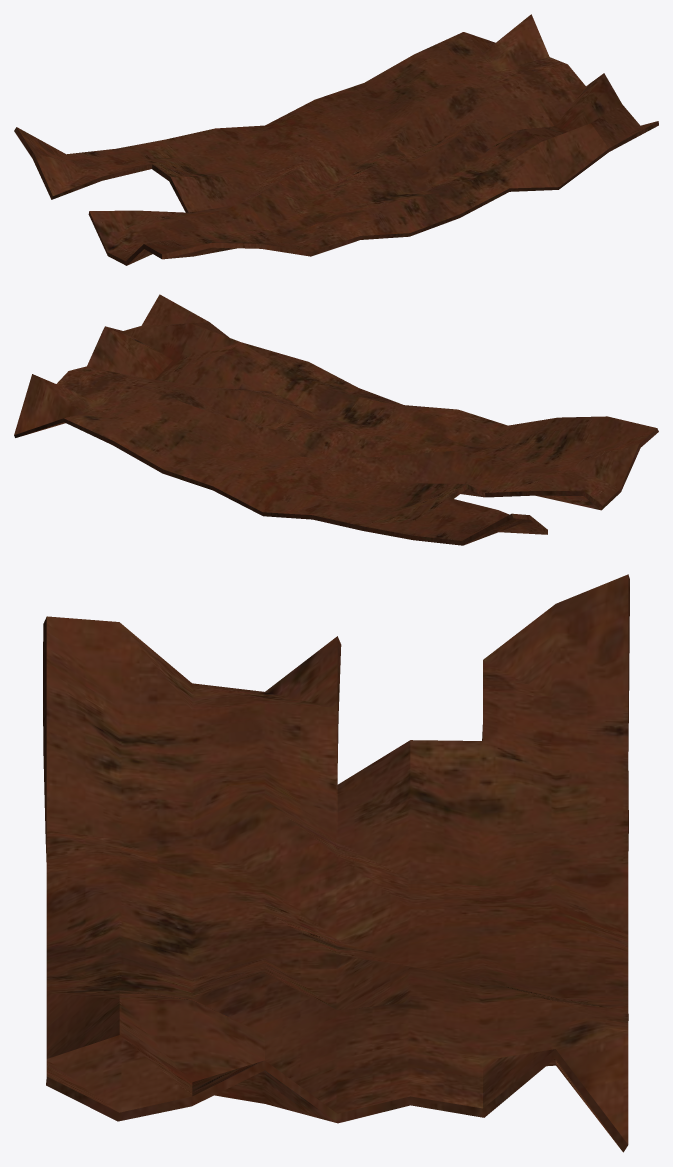
The model's file is sheet_6.glb.
3 views of the same model, one above another, from view 1: azimuth 30°, elevation 25°; view 2: azimuth 150°, elevation 25°; view 3: azimuth 270°, elevation 25° (orthographic). The views are drawn at different scales.
Visible parts, largest first — view 1: sheet_6; view 2: sheet_6; view 3: sheet_6.
Part boxes in pixels (x1,y1,x2,y2): sheet_6: [14, 14, 658, 265]; sheet_6: [14, 294, 658, 545]; sheet_6: [43, 574, 629, 1152].
Bounding box in the file's own units: 0.4666 × 0.0632 × 0.237.
1 material, 1 textured.
